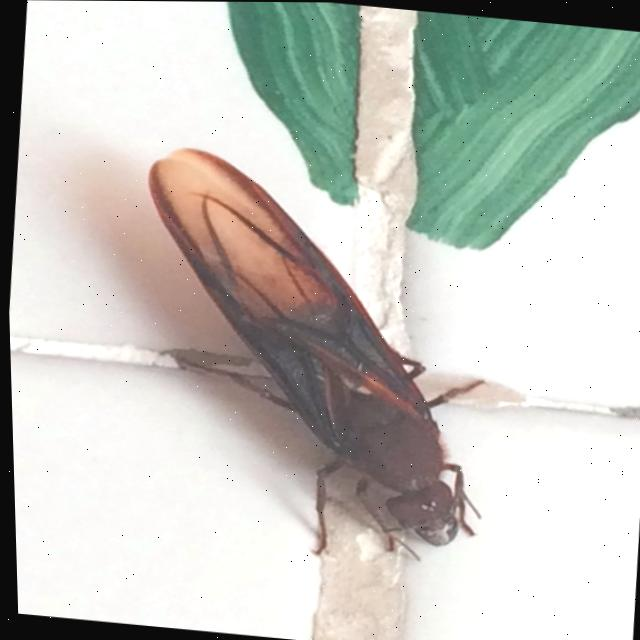Alive-Female-Alate: (109, 143, 513, 570)
